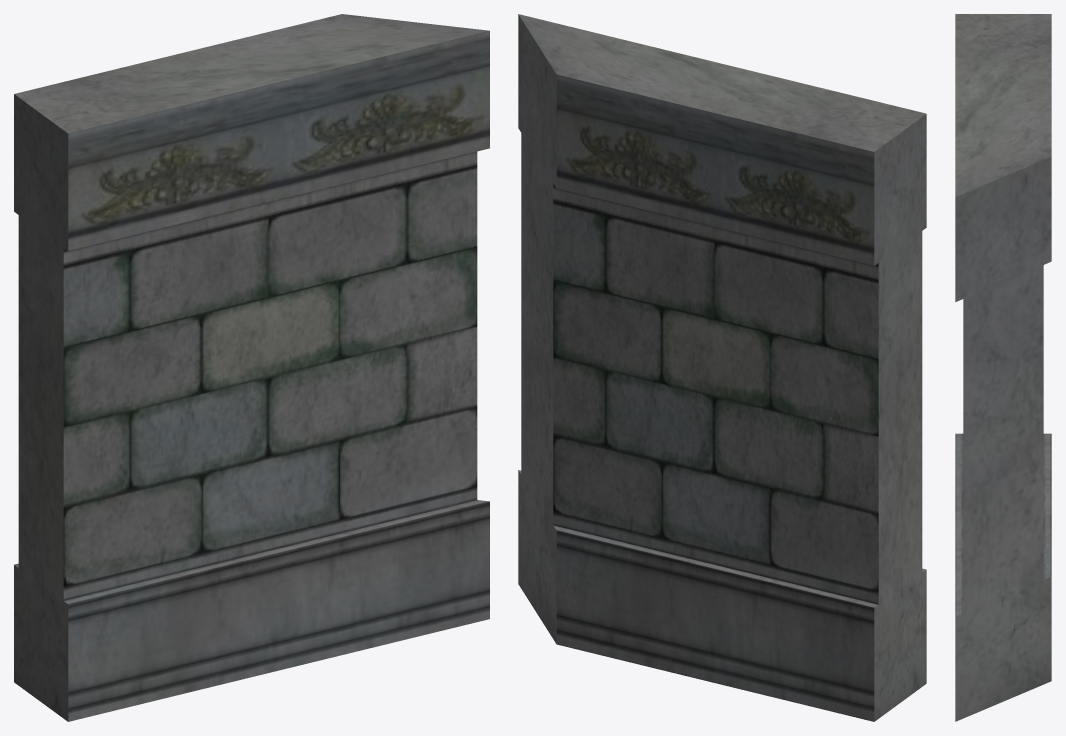
The model's file is wall_small_corner_L_01.glb.
3 views of the same model, side by side, from view 1: azimuth 30°, elevation 25°; view 2: azimuth 150°, elevation 25°; view 3: azimuth 270°, elevation 25° (orthographic). The views are drawn at different scales.
Visible parts, largest first — view 1: wall_small_corner_L_01; view 2: wall_small_corner_L_01; view 3: wall_small_corner_L_01.
Part boxes in pixels (bbox=[...]): wall_small_corner_L_01: bbox=[14, 14, 489, 721]; wall_small_corner_L_01: bbox=[518, 14, 926, 721]; wall_small_corner_L_01: bbox=[955, 14, 1051, 721].
Bounding box in the file's own units: 2.25 × 3 × 0.5.
Materials: 1 (1 with a texture image).
